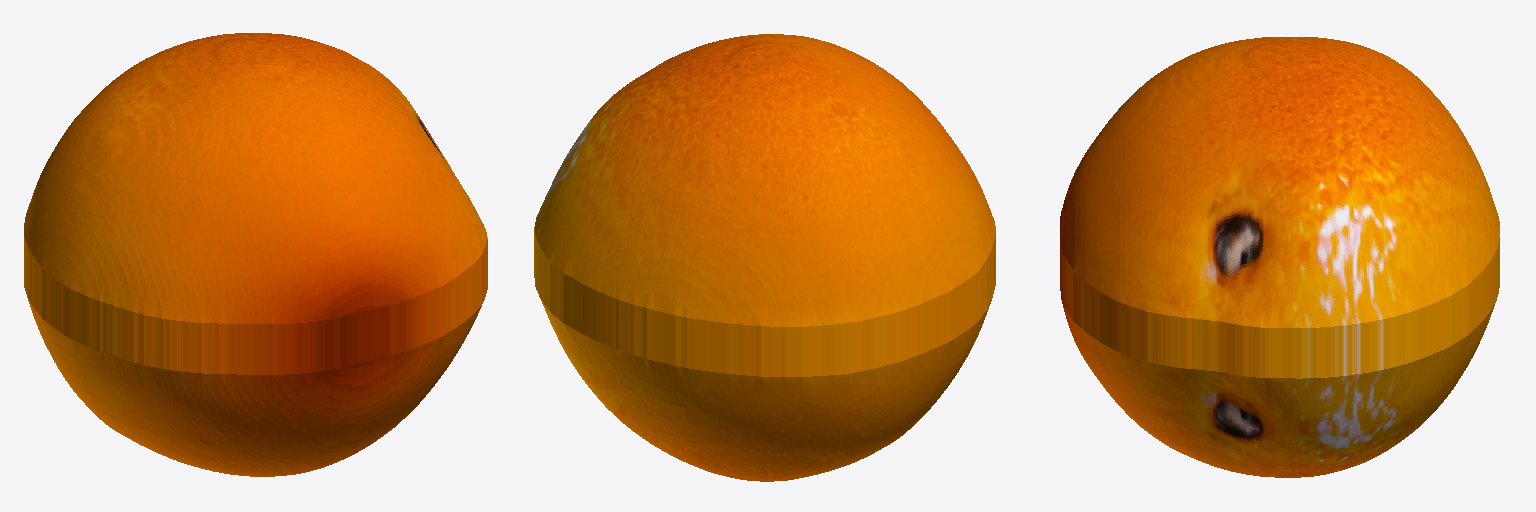
The picture shows the model from 3 angles: view 1: azimuth 30°, elevation 25°; view 2: azimuth 150°, elevation 25°; view 3: azimuth 270°, elevation 25°; orthographic projection.
Parts seen in each view (by area): view 1: Grid; view 2: Grid; view 3: Grid.
Boxes of the visible parts, box(x1,y1,x2,y2) form: Grid: box(24, 33, 487, 476); Grid: box(534, 34, 995, 481); Grid: box(1060, 37, 1499, 477).
Size of the model in its own units: 1.66 by 1.6 by 1.59.
1 materials, 1 textured.